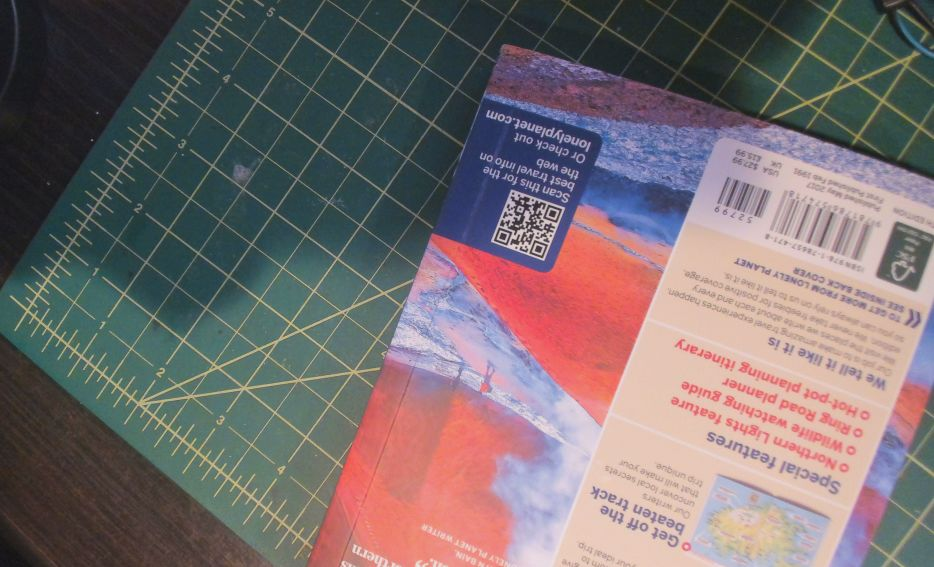QR_CODE: (478, 180, 585, 268)
